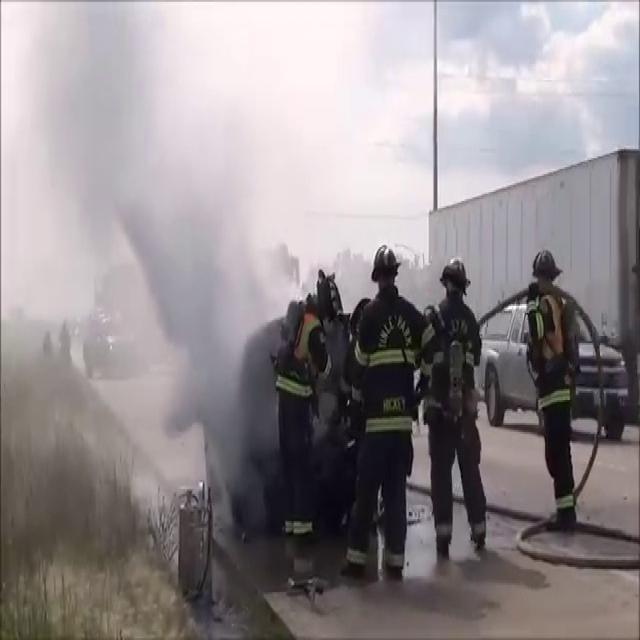Smoke: (2, 1, 282, 452)
